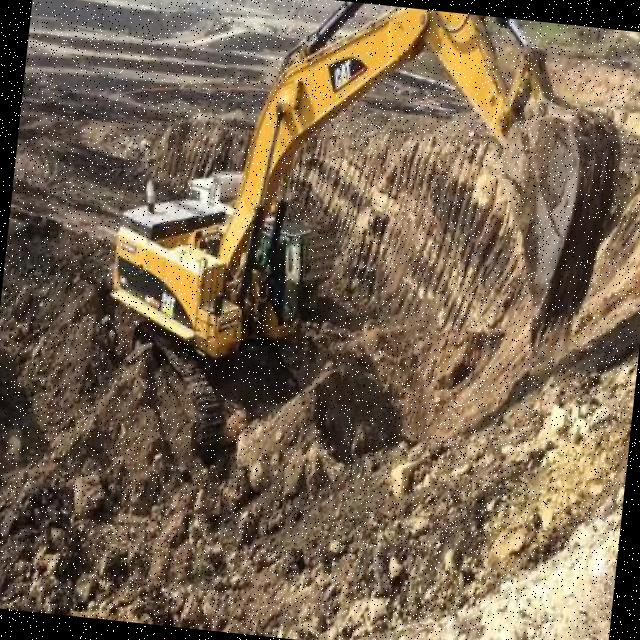Dump Truck: (255, 199, 346, 315), (0, 250, 29, 477)
Excavator: (81, 0, 636, 500)
